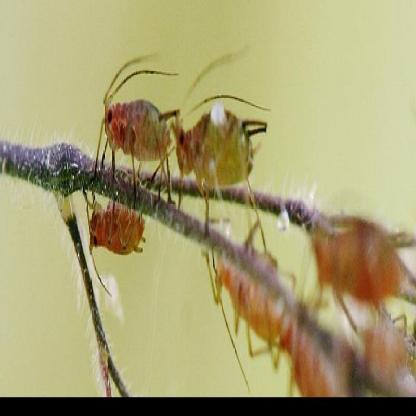aphid: (173, 66, 268, 212), (206, 219, 296, 354), (93, 54, 177, 196), (302, 209, 416, 313), (79, 184, 148, 287), (286, 307, 359, 400), (362, 303, 416, 400)
